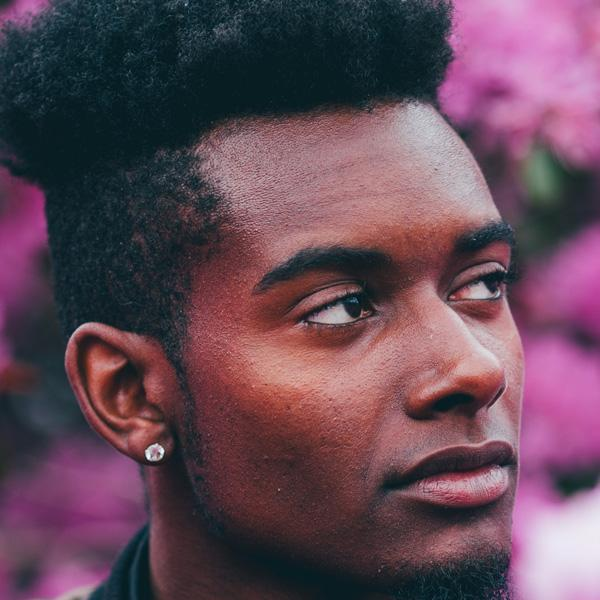Eyes: (280, 271, 389, 345), (439, 254, 517, 319)
